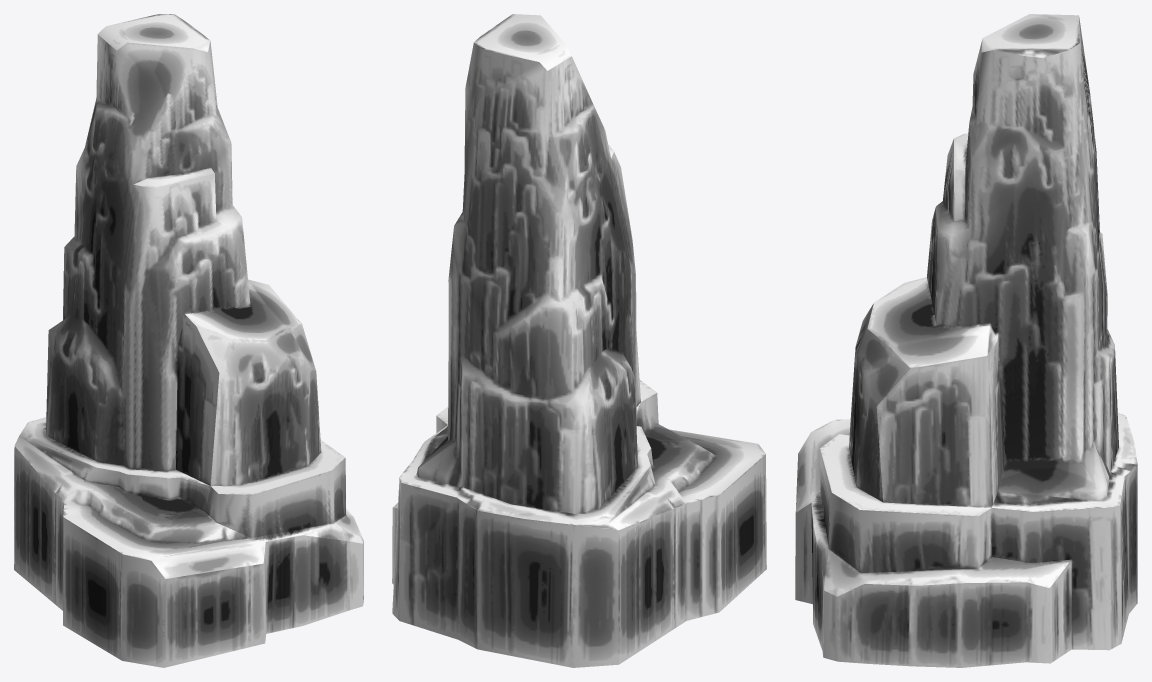
The model's file is Crystal_01.FBX.
3 views of the same model, side by side, from view 1: azimuth 30°, elevation 25°; view 2: azimuth 150°, elevation 25°; view 3: azimuth 270°, elevation 25° (orthographic). The views are drawn at different scales.
Visible parts, largest first — view 1: Crystal_01; view 2: Crystal_01; view 3: Crystal_01.
Part boxes in pixels (x1,y1,x2,y2): Crystal_01: (14,14,363,667); Crystal_01: (392,14,766,667); Crystal_01: (795,14,1137,667).
Size of the model in its own units: 0.8025 by 1.56 by 0.8435.
